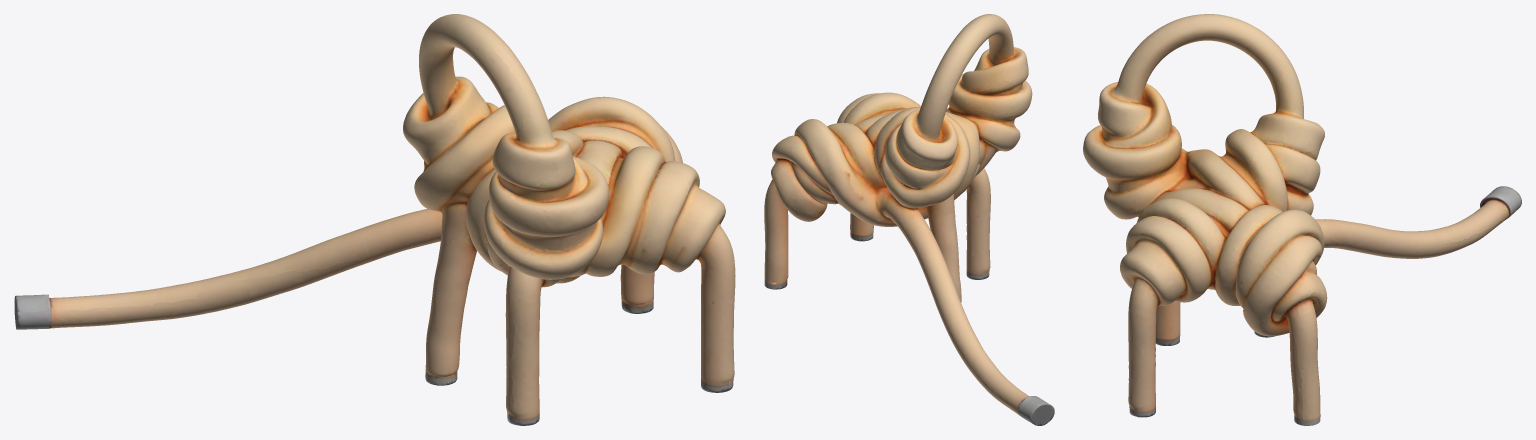
File: 03_1_gj_mkn_chair-opt-v11.glb
The picture shows the model from 3 angles, left to right: view 1: azimuth 30°, elevation 25°; view 2: azimuth 150°, elevation 25°; view 3: azimuth 270°, elevation 25°; orthographic projection. The views are drawn at different scales.
Visible parts, largest first — view 1: tripo_node_f474be09-b141-4a94-a557-00a0a677975d; view 2: tripo_node_f474be09-b141-4a94-a557-00a0a677975d; view 3: tripo_node_f474be09-b141-4a94-a557-00a0a677975d.
Part boxes in pixels (box(x1,y1,x2,y2)): tripo_node_f474be09-b141-4a94-a557-00a0a677975d: box(14, 14, 735, 425); tripo_node_f474be09-b141-4a94-a557-00a0a677975d: box(764, 14, 1054, 425); tripo_node_f474be09-b141-4a94-a557-00a0a677975d: box(1083, 14, 1521, 425).
Bounding box in the file's own units: 0.7052 × 0.4908 × 0.6194.
1 material, 1 textured.
